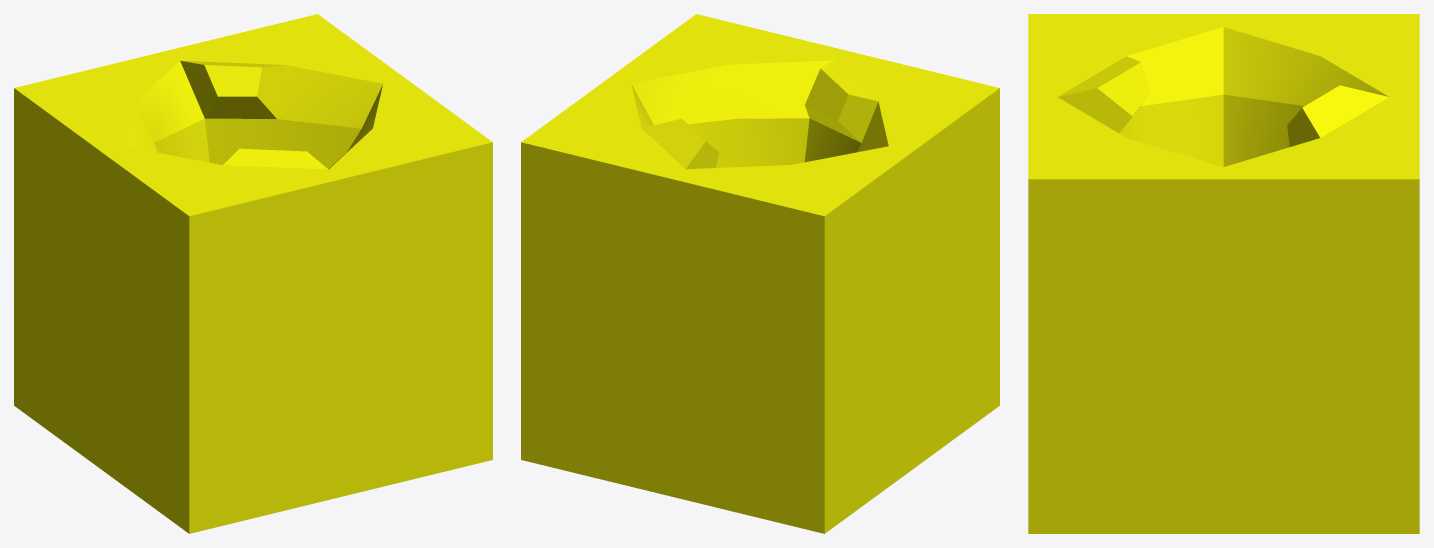
Rendered from kaykit-terrain-mining.glb.
3 views of the same model, side by side, from view 1: azimuth 30°, elevation 25°; view 2: azimuth 150°, elevation 25°; view 3: azimuth 270°, elevation 25° (orthographic). The views are drawn at different scales.
Visible parts, largest first — view 1: terrain_mining; view 2: terrain_mining; view 3: terrain_mining.
Boxes of the visible parts, <box> form: terrain_mining: <box>14,14,492,533</box>; terrain_mining: <box>521,14,999,533</box>; terrain_mining: <box>1028,14,1419,533</box>.
Size of the model in its own units: 2 by 2.07 by 2.
